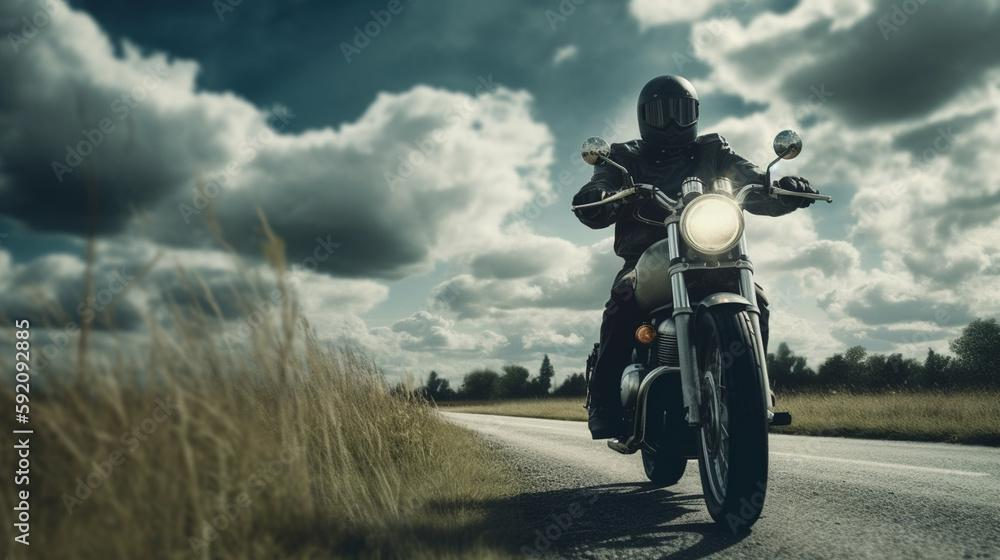helmet: (636, 73, 700, 149)
